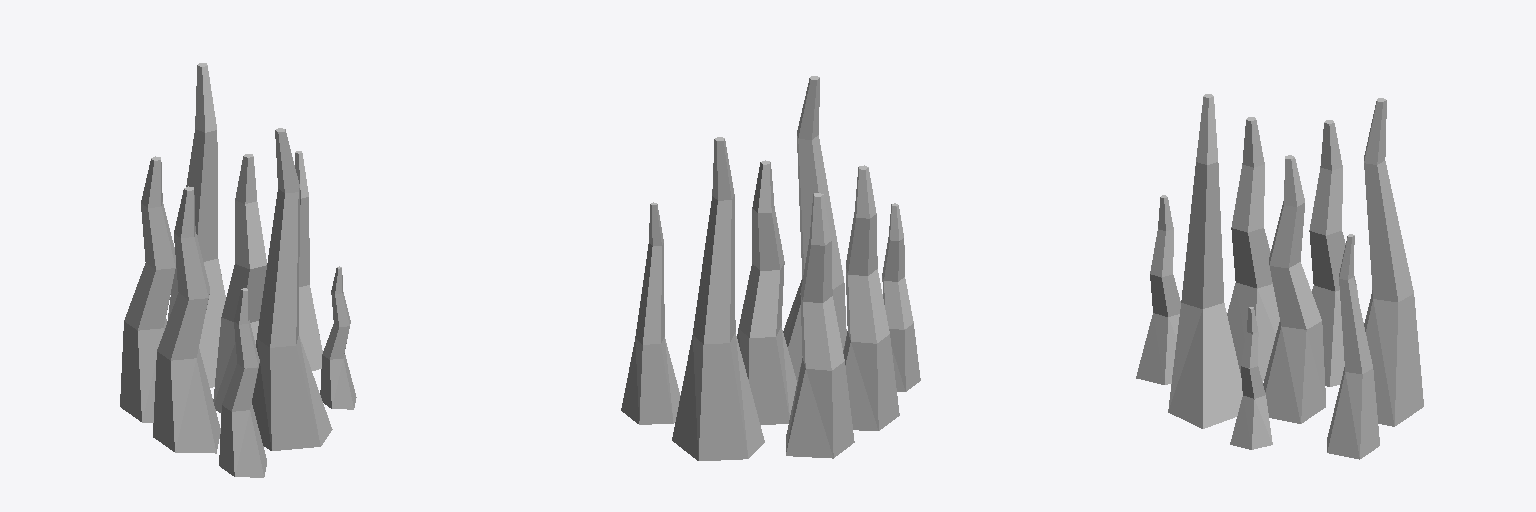
File: cesped.obj
The picture shows the model from 3 angles: view 1: azimuth 30°, elevation 25°; view 2: azimuth 150°, elevation 25°; view 3: azimuth 270°, elevation 25°; orthographic projection.
Visible parts, largest first — view 1: Cesped_Cylinder.002; view 2: Cesped_Cylinder.002; view 3: Cesped_Cylinder.002.
Boxes of the visible parts, <box> form: Cesped_Cylinder.002: <box>120,63,356,477</box>; Cesped_Cylinder.002: <box>621,76,920,460</box>; Cesped_Cylinder.002: <box>1136,94,1423,459</box>.
Size of the model in its own units: 0.5479 by 0.7573 by 0.6397.